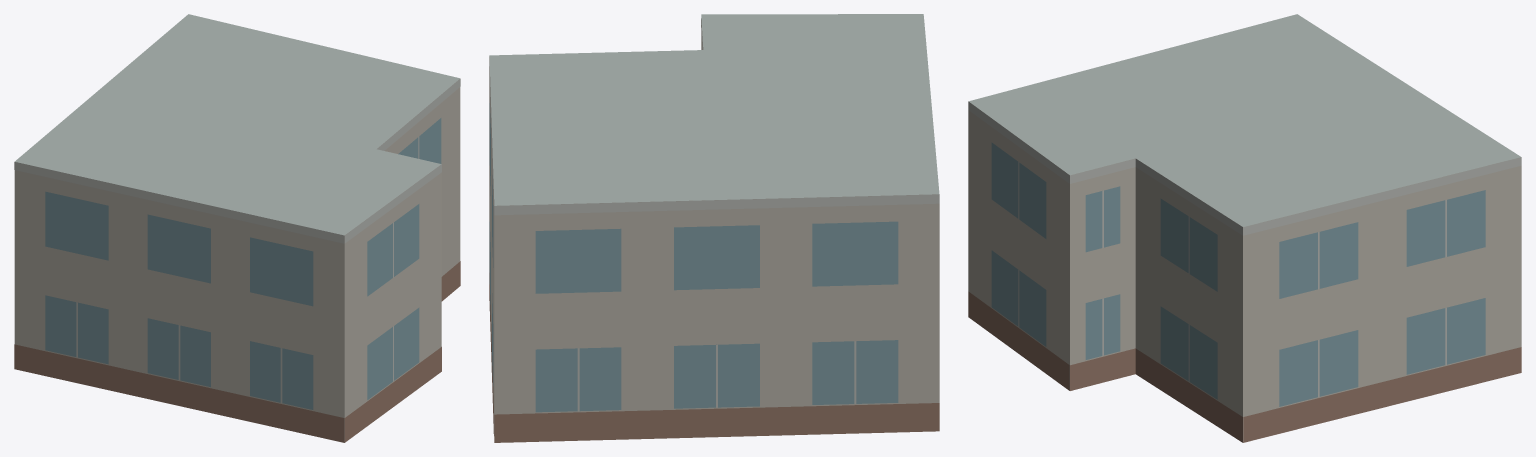
File: survey-upis-32759926.glb
3 views of the same model, side by side, from view 1: azimuth 30°, elevation 25°; view 2: azimuth 150°, elevation 25°; view 3: azimuth 270°, elevation 25° (orthographic). The views are drawn at different scales.
Visible parts, largest first — view 1: survey-upis-32759926.tmp; view 2: survey-upis-32759926.tmp; view 3: survey-upis-32759926.tmp.
Part boxes in pixels (x1,y1,x2,y2): survey-upis-32759926.tmp: (14, 14, 460, 442); survey-upis-32759926.tmp: (489, 14, 939, 442); survey-upis-32759926.tmp: (968, 14, 1521, 442).
Bounding box in the file's own units: 12.94 × 6.1 × 14.19.
